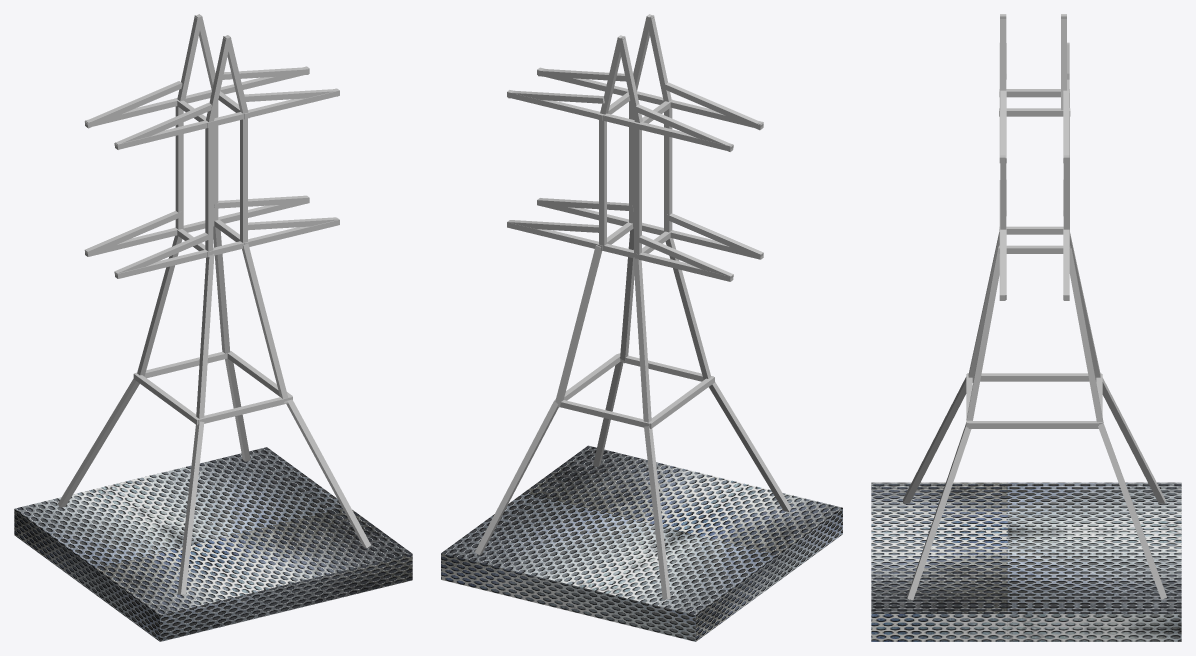
The model's file is hotel.obj.
3 renders of one model, left to right at view 1: azimuth 30°, elevation 25°; view 2: azimuth 150°, elevation 25°; view 3: azimuth 270°, elevation 25°, orthographic. The views are drawn at different scales.
Parts seen in each view (by area): view 1: Cube_Cube.004, Cube.026_Cube.046, Cube.012_Cube.025, Cube.001_Cube.007, Cube.011_Cube.030, Cube.002_Cube.008, Cube.009_Cube.033, Cube.028_Cube.048, Cube.016_Cube.029, Cube.006_Cube.019, Cube.015_Cube.032, Cube.014_Cube.037 (+20 smaller); view 2: Cube_Cube.004, Cube.028_Cube.048, Cube.009_Cube.033, Cube.006_Cube.019, Cube.015_Cube.032, Cube.013_Cube.031, Cube.004_Cube.018, Cube.012_Cube.025, Cube.026_Cube.046, Cube.001_Cube.007, Cube.011_Cube.030, Cube.019_Cube.039 (+19 smaller); view 3: Cube_Cube.004, Cube.002_Cube.008, Cube.004_Cube.018, Cube.013_Cube.031, Cube.016_Cube.029, Cube.001_Cube.007, Cube.006_Cube.019, Cube.007_Cube.020, Cube.008_Cube.021, Cube.011_Cube.030, Cube.015_Cube.032, Cube.021_Cube.041 (+11 smaller).
Boxes of the visible parts, left/top/right/bottom form: Cube_Cube.004: left=14, top=447, right=412, bottom=641; Cube.026_Cube.046: left=115, top=88, right=339, bottom=149; Cube.012_Cube.025: left=115, top=218, right=339, bottom=278; Cube.001_Cube.007: left=177, top=421, right=204, bottom=594; Cube.011_Cube.030: left=196, top=254, right=214, bottom=418; Cube.002_Cube.008: left=286, top=399, right=370, bottom=548; Cube.009_Cube.033: left=85, top=196, right=309, bottom=256; Cube.028_Cube.048: left=85, top=66, right=309, bottom=127; Cube.016_Cube.029: left=242, top=243, right=288, bottom=403; Cube.006_Cube.019: left=58, top=379, right=139, bottom=507; Cube.015_Cube.032: left=137, top=235, right=182, bottom=376; Cube.014_Cube.037: left=205, top=127, right=213, bottom=251; Cube_Cube.004: left=441, top=445, right=842, bottom=641; Cube.028_Cube.048: left=507, top=90, right=733, bottom=151; Cube.009_Cube.033: left=507, top=220, right=733, bottom=281; Cube.006_Cube.019: left=644, top=426, right=670, bottom=599; Cube.015_Cube.032: left=633, top=257, right=651, bottom=422; Cube.013_Cube.031: left=555, top=245, right=601, bottom=407; Cube.004_Cube.018: left=475, top=401, right=558, bottom=555; Cube.012_Cube.025: left=537, top=198, right=763, bottom=259; Cube.026_Cube.046: left=537, top=67, right=763, bottom=129; Cube.001_Cube.007: left=709, top=382, right=791, bottom=511; Cube.011_Cube.030: left=665, top=238, right=711, bottom=379; Cube.019_Cube.039: left=599, top=116, right=606, bottom=249; Cube_Cube.004: left=871, top=482, right=1181, bottom=641; Cube.002_Cube.008: left=906, top=424, right=971, bottom=600; Cube.004_Cube.018: left=1098, top=423, right=1166, bottom=599; Cube.013_Cube.031: left=1069, top=248, right=1103, bottom=422; Cube.016_Cube.029: left=966, top=246, right=999, bottom=423; Cube.001_Cube.007: left=903, top=377, right=966, bottom=503; Cube.006_Cube.019: left=1102, top=378, right=1165, bottom=503; Cube.007_Cube.020: left=968, top=421, right=1098, bottom=428; Cube.008_Cube.021: left=967, top=373, right=1101, bottom=381; Cube.011_Cube.030: left=968, top=232, right=999, bottom=382; Cube.015_Cube.032: left=1070, top=233, right=1100, bottom=381; Cube.021_Cube.041: left=1000, top=15, right=1006, bottom=109.
Size of the model in its own units: 10 by 19.99 by 10.
Materials: 2 (1 with a texture image).
